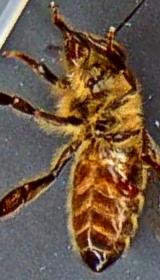varroa_mite: (105, 170, 146, 210)
